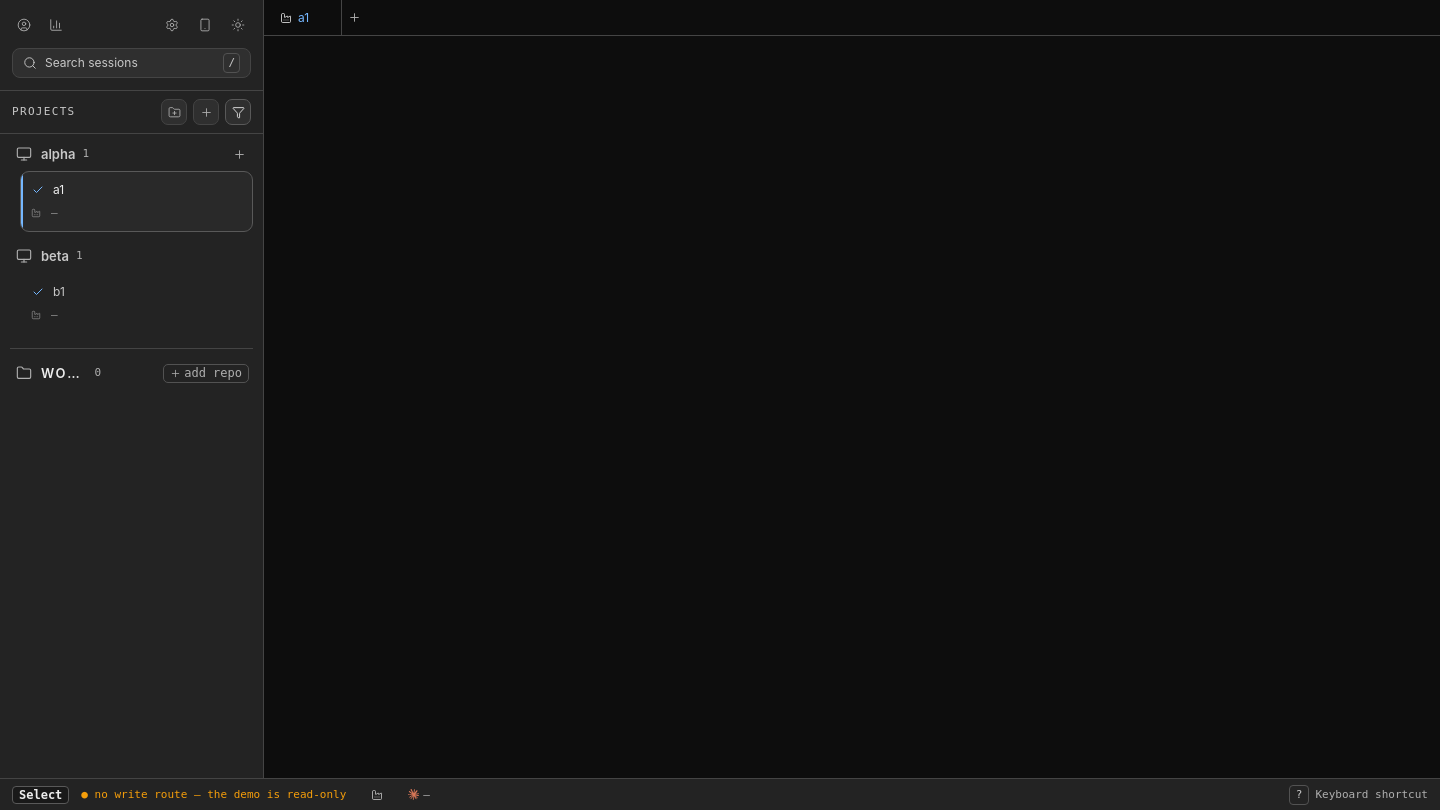
Test case: moving the focused project with `gm` › opens a picker naming the focused project and listing existing folders
Click the button "a1 —": (136, 202) [20,171,253,232]
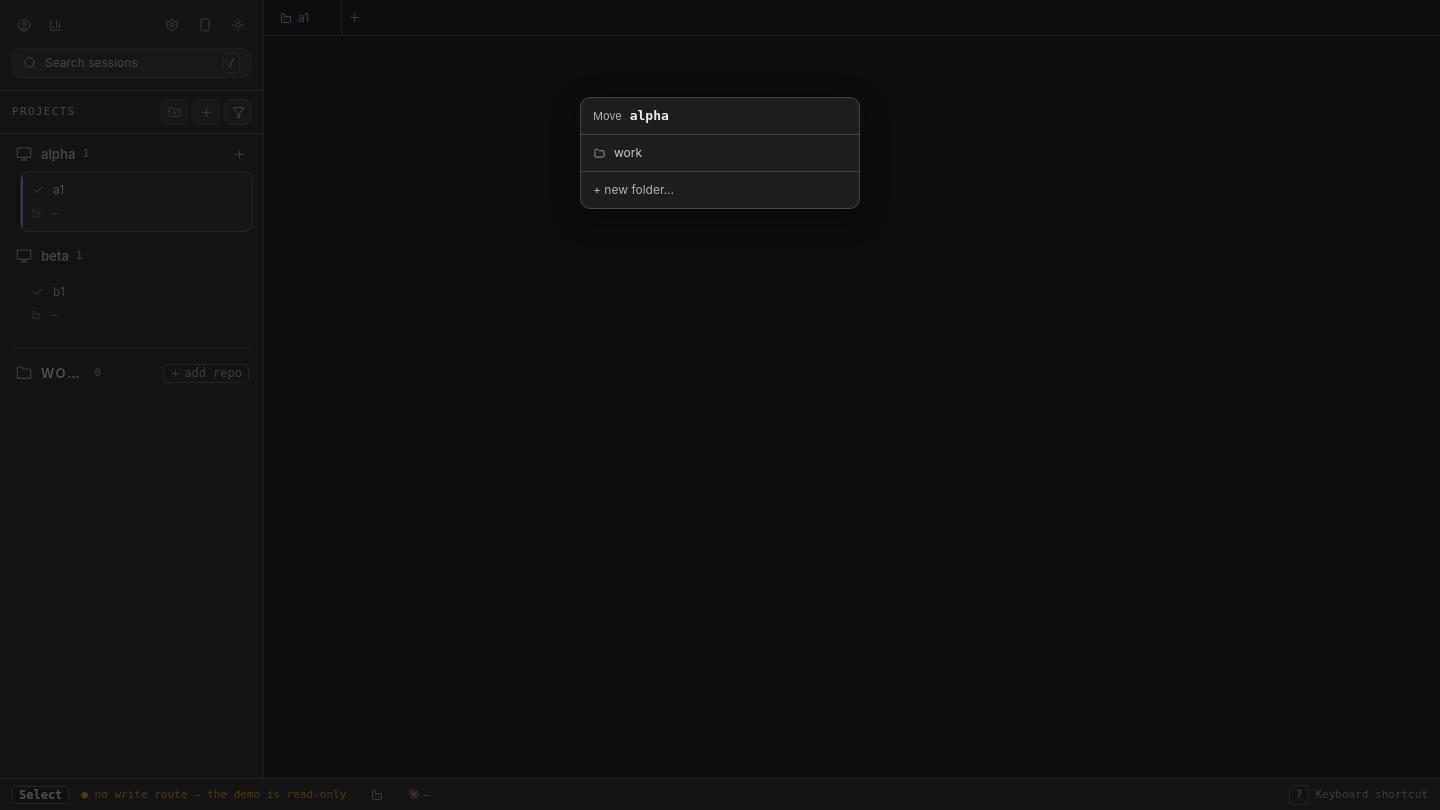
Expected: the element showing "Move alpha work + new folder…" is shown, [580,97,860,209]
Expected: the button "work" is shown, [585,139,855,167]
